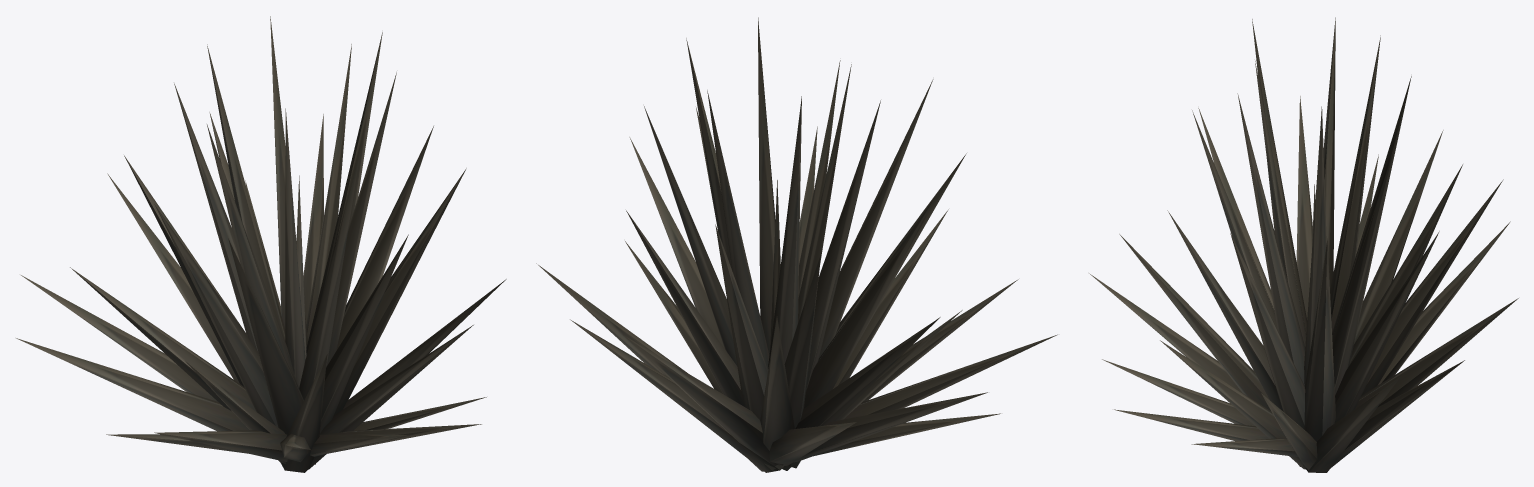
The model's file is DE_Cactus_43.fbx.
3 views of the same model, side by side, from view 1: azimuth 30°, elevation 25°; view 2: azimuth 150°, elevation 25°; view 3: azimuth 270°, elevation 25° (orthographic).
Visible parts, largest first — view 1: DE_Cactus_43; view 2: DE_Cactus_43; view 3: DE_Cactus_43.
Boxes of the visible parts, left/top/right/bottom form: DE_Cactus_43: left=16, top=16, right=506, bottom=472; DE_Cactus_43: left=536, top=17, right=1057, bottom=472; DE_Cactus_43: left=1089, top=17, right=1518, bottom=472.
Size of the model in its own units: 4.02 by 3.57 by 3.43.
